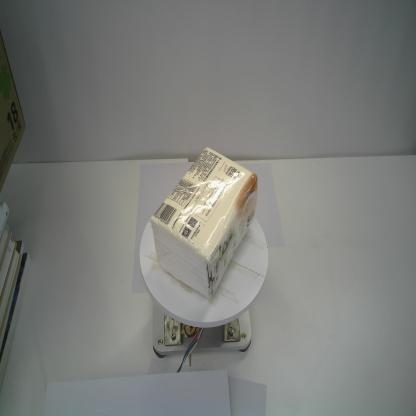Tissue: (149, 145, 259, 299)
